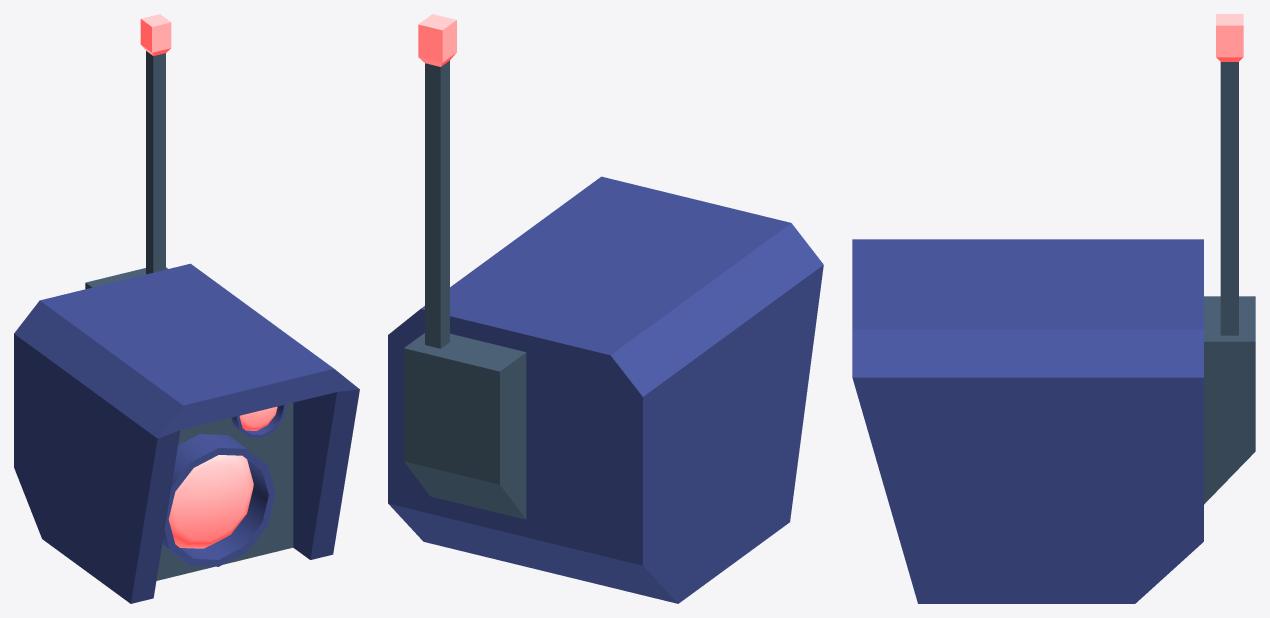
File: Bot_Head_01.fbx
The picture shows the model from 3 angles, left to right: view 1: azimuth 30°, elevation 25°; view 2: azimuth 150°, elevation 25°; view 3: azimuth 270°, elevation 25°; orthographic projection. The views are drawn at different scales.
Visible parts, largest first — view 1: Bot_Head_01; view 2: Bot_Head_01; view 3: Bot_Head_01.
Boxes of the visible parts, x1,y1,x2,y2 form: Bot_Head_01: (14,14,359,603); Bot_Head_01: (388,14,823,603); Bot_Head_01: (852,14,1255,603).
Bounding box in the file's own units: 80 × 171 × 113.
